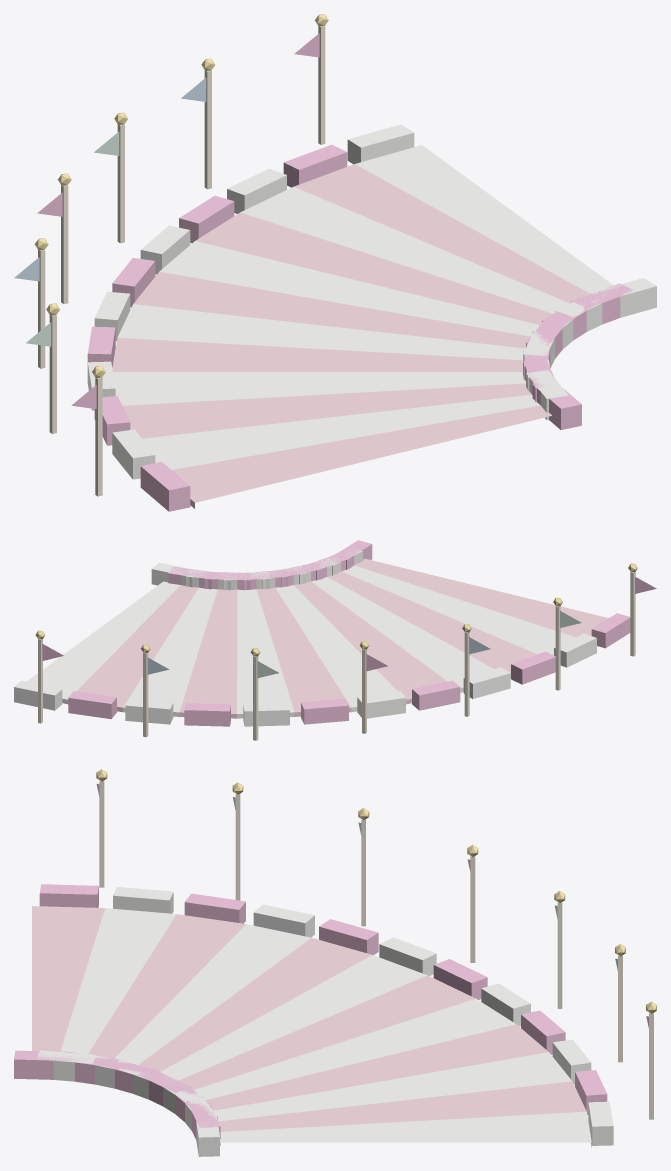
Rendered from draha_zatacka_vpravo.glb.
The picture shows the model from 3 angles, top to bottom: view 1: azimuth 30°, elevation 25°; view 2: azimuth 150°, elevation 25°; view 3: azimuth 270°, elevation 25°; orthographic projection. The views are drawn at different scales.
Parts seen in each view (by area): view 1: DrahaZatacka_white, DrahaZatacka_pink, DrahaZatacka_lol, DrahaZatacka_cream, DrahaZatacka_gold, DrahaZatacka_mint; view 2: DrahaZatacka_white, DrahaZatacka_pink, DrahaZatacka_lol, DrahaZatacka_cream, DrahaZatacka_gold, DrahaZatacka_blue, DrahaZatacka_mint; view 3: DrahaZatacka_white, DrahaZatacka_pink, DrahaZatacka_lol, DrahaZatacka_cream, DrahaZatacka_gold.
Boxes of the visible parts, x1=… form: DrahaZatacka_white: x1=87, y1=124, x2=656, y2=479; DrahaZatacka_pink: x1=112, y1=164, x2=589, y2=508; DrahaZatacka_lol: x1=37, y1=33, x2=632, y2=511; DrahaZatacka_cream: x1=38, y1=26, x2=325, y2=496; DrahaZatacka_gold: x1=34, y1=14, x2=328, y2=378; DrahaZatacka_mint: x1=26, y1=131, x2=119, y2=346; DrahaZatacka_white: x1=14, y1=548, x2=596, y2=726; DrahaZatacka_pink: x1=76, y1=558, x2=608, y2=718; DrahaZatacka_lol: x1=42, y1=540, x2=656, y2=726; DrahaZatacka_cream: x1=38, y1=572, x2=635, y2=740; DrahaZatacka_gold: x1=35, y1=563, x2=637, y2=656; DrahaZatacka_blue: x1=147, y1=637, x2=490, y2=674; DrahaZatacka_mint: x1=257, y1=611, x2=581, y2=678; DrahaZatacka_white: x1=36, y1=887, x2=613, y2=1156; DrahaZatacka_pink: x1=32, y1=906, x2=586, y2=1131; DrahaZatacka_lol: x1=14, y1=784, x2=648, y2=1145; DrahaZatacka_cream: x1=99, y1=780, x2=653, y2=1119; DrahaZatacka_gold: x1=96, y1=769, x2=656, y2=1013.
Size of the model in its own units: 12.57 by 2.42 by 12.07.
